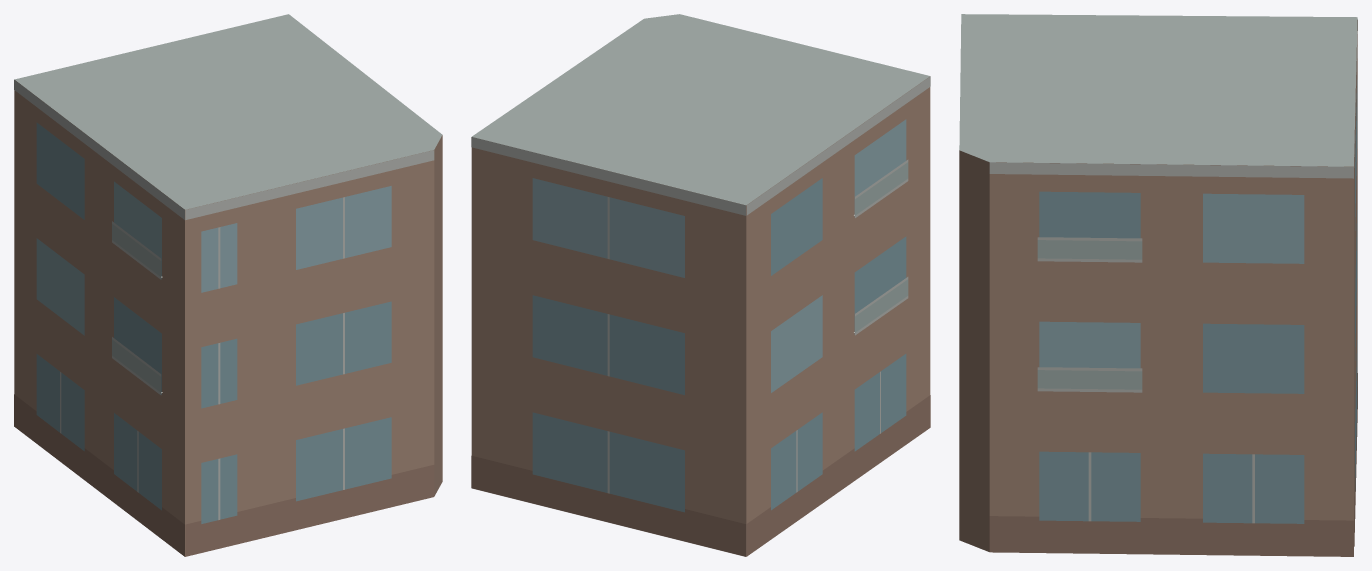
The model's file is survey-upis-32507563.glb.
The picture shows the model from 3 angles, left to right: view 1: azimuth 30°, elevation 25°; view 2: azimuth 150°, elevation 25°; view 3: azimuth 270°, elevation 25°; orthographic projection. The views are drawn at different scales.
Visible parts, largest first — view 1: survey-upis-32507563.tmp; view 2: survey-upis-32507563.tmp; view 3: survey-upis-32507563.tmp.
Boxes of the visible parts, <box> form: survey-upis-32507563.tmp: <box>14,14,442,556</box>; survey-upis-32507563.tmp: <box>471,14,930,556</box>; survey-upis-32507563.tmp: <box>959,14,1357,556</box>.
Size of the model in its own units: 6.83 by 8.1 by 7.51.
